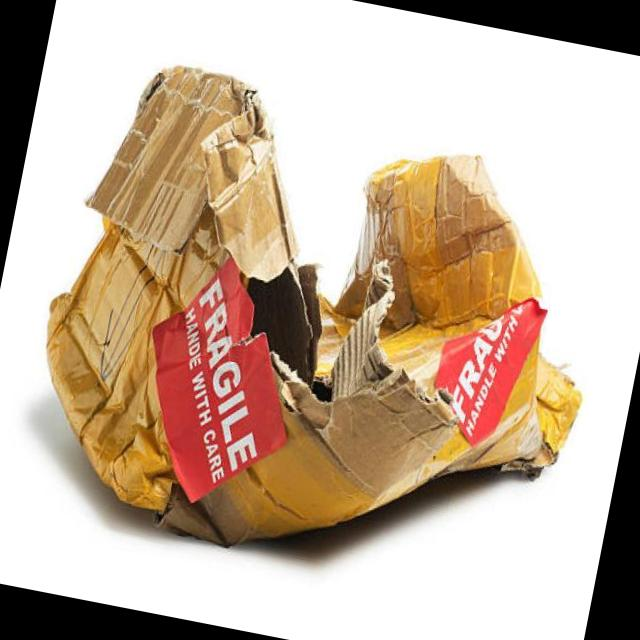box: (43, 61, 580, 546)
crushed: (52, 61, 216, 501), (370, 146, 543, 319)
tear: (228, 252, 411, 417)
